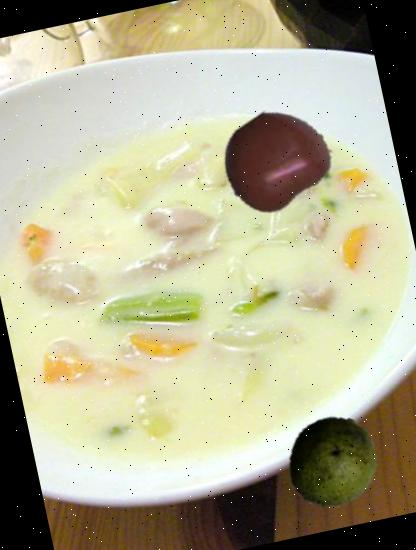Avocado: (277, 406, 388, 518)
Cherry: (212, 96, 338, 222)
